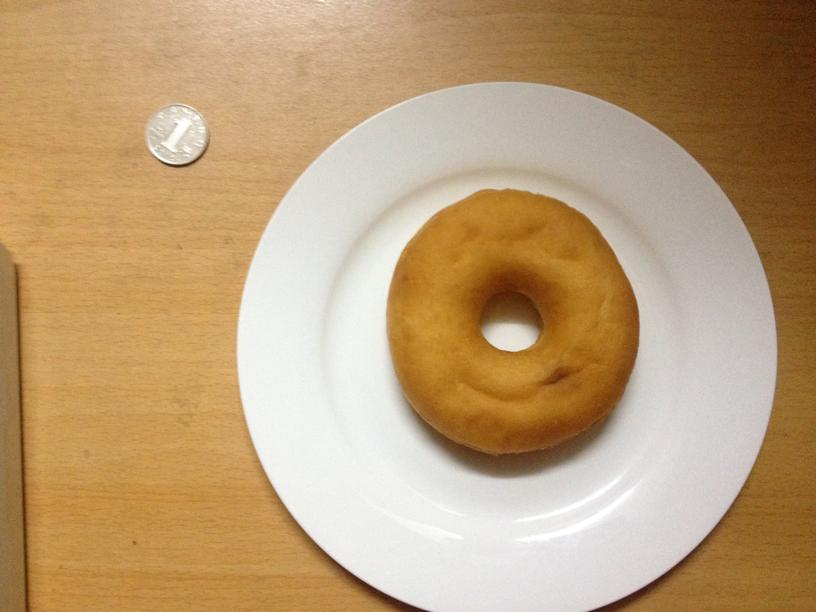coin: (144, 103, 210, 166)
doughnut: (390, 188, 640, 457)
